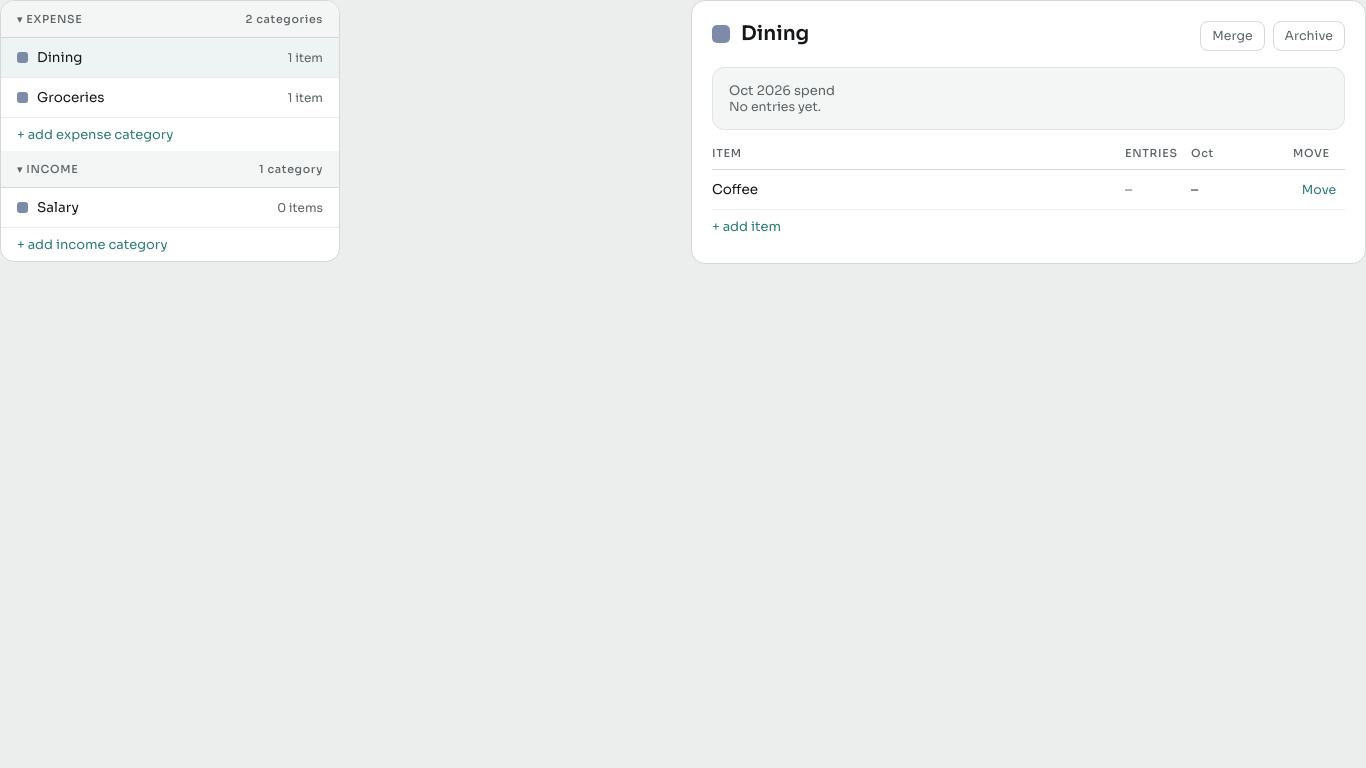
Test: category operation dialogs › keeps a dialog open on conflict
Click the button "Move" at (1319, 190), box [1293,182,1345,198]
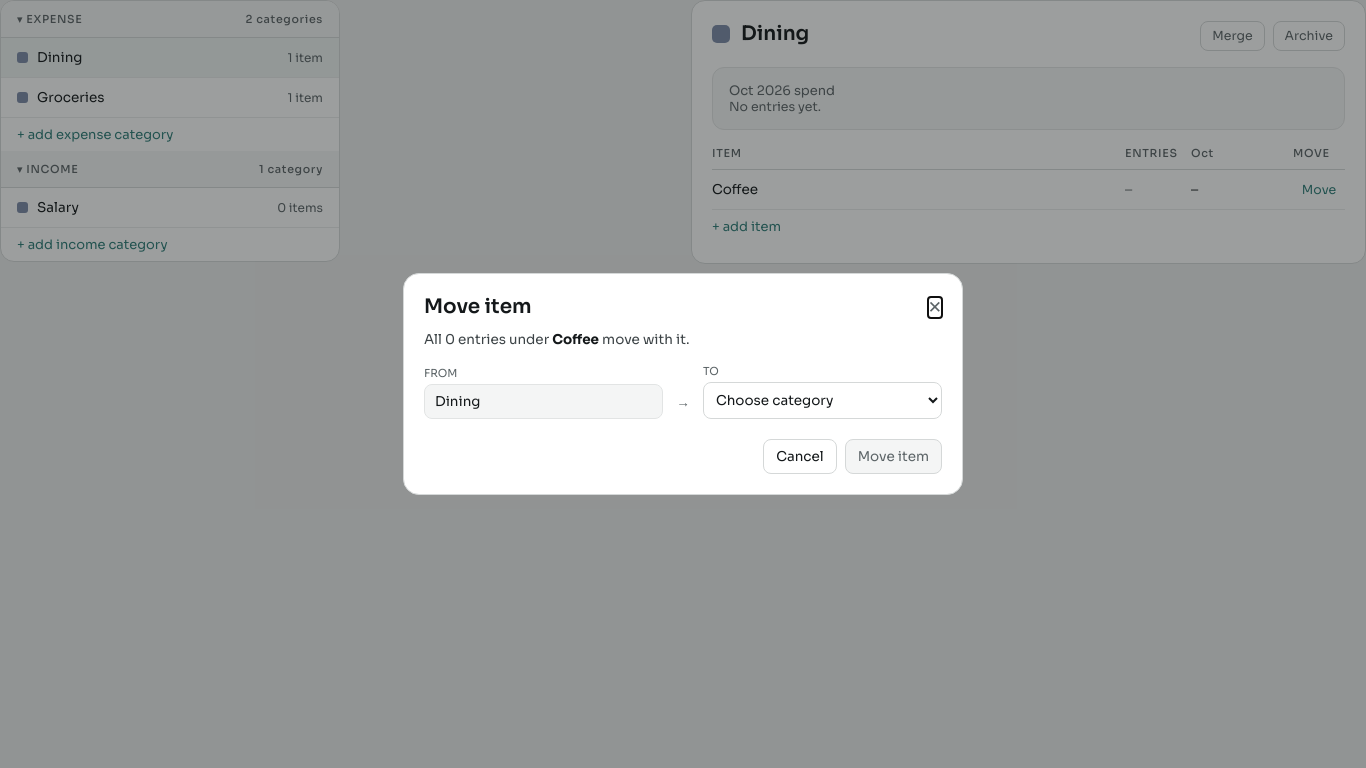
Select "Groceries" in the dropdown named "Move item to category" at (822, 400), box [703,382,942,419]
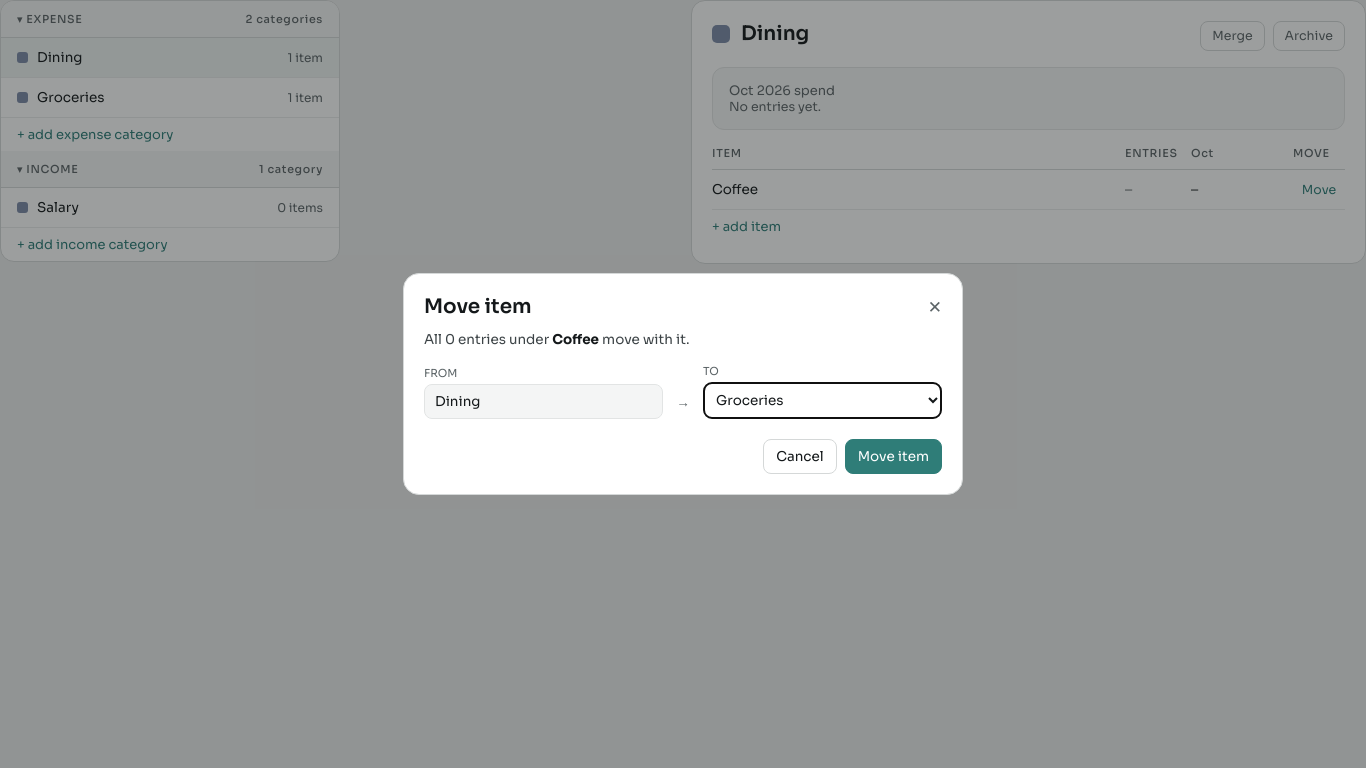
Click the button "Move item" at (893, 456), box [845,439,942,474]
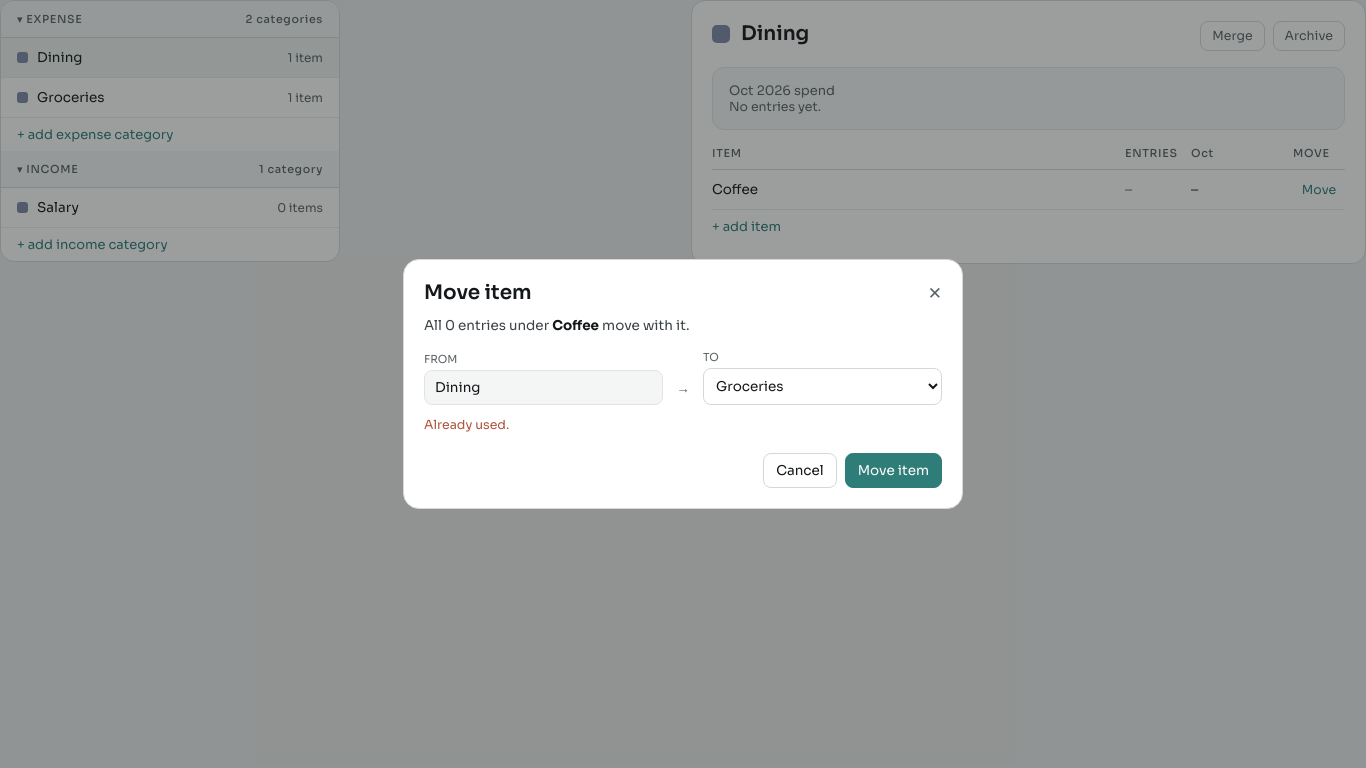
Now the dialog "Move item" is shown, box [403,259,963,509]
Now the text "Already used." is shown, box [424,417,509,433]
